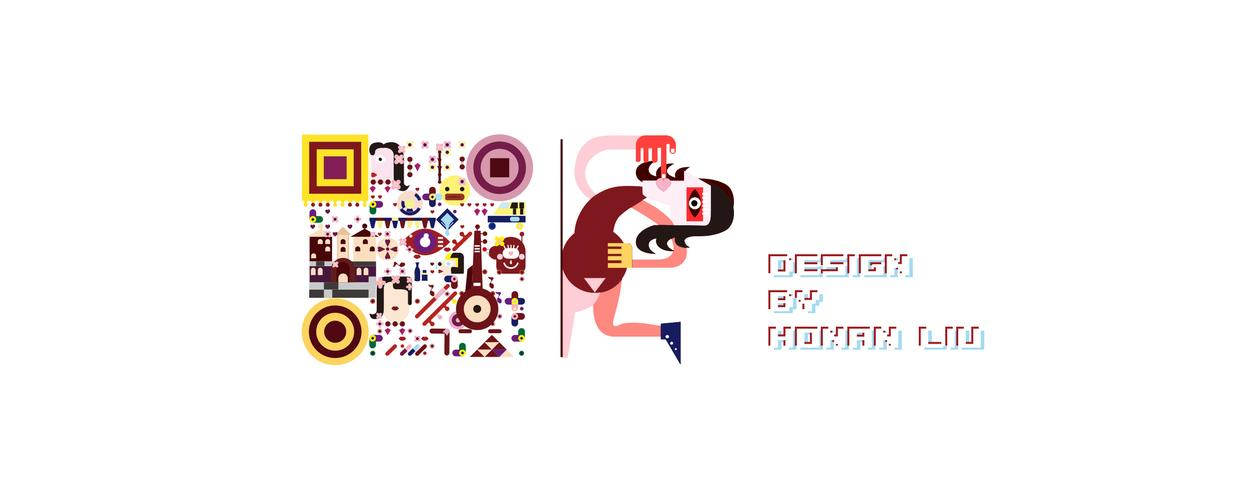QRCode: (290, 125, 543, 388)
